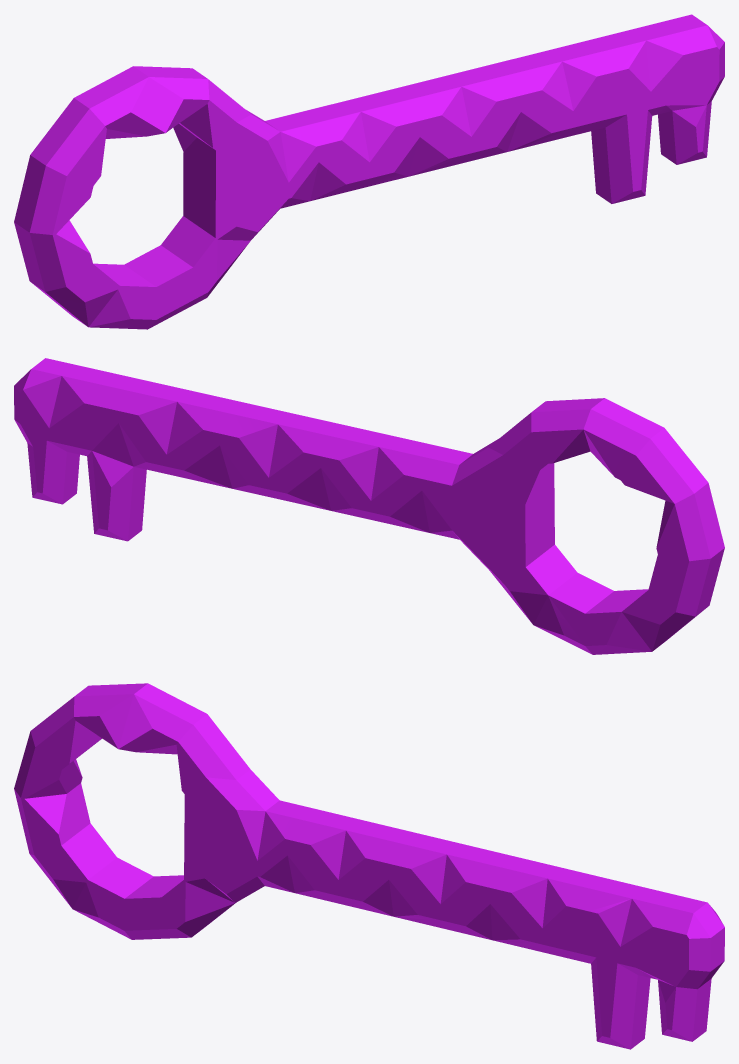
File: pink_key.glb
3 renders of one model, top to bottom at view 1: azimuth 30°, elevation 25°; view 2: azimuth 150°, elevation 25°; view 3: azimuth 330°, elevation 25°, orthographic. The views are drawn at different scales.
Visible parts, largest first — view 1: Circle.024; view 2: Circle.024; view 3: Circle.024.
Boxes of the visible parts, bbox=[...] form: Circle.024: bbox=[14, 14, 724, 329]; Circle.024: bbox=[14, 358, 724, 654]; Circle.024: bbox=[14, 683, 724, 1049].
Size of the model in its own units: 1.89 by 0.6456 by 0.2172.
Materials: 1 (1 with a texture image).
